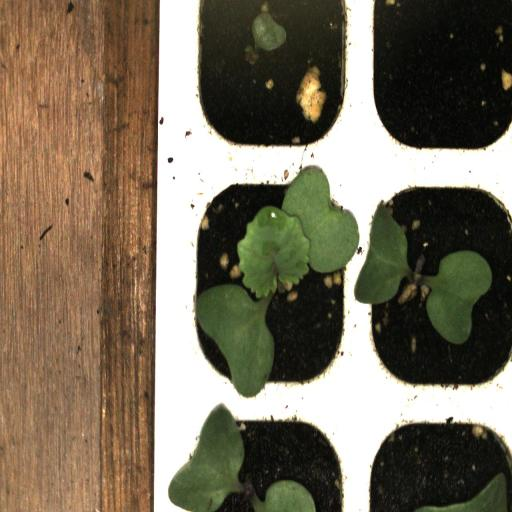noseedling: (359, 2, 512, 160)
seedling: (181, 158, 360, 404), (358, 157, 512, 402)
weak: (179, 2, 359, 160)
